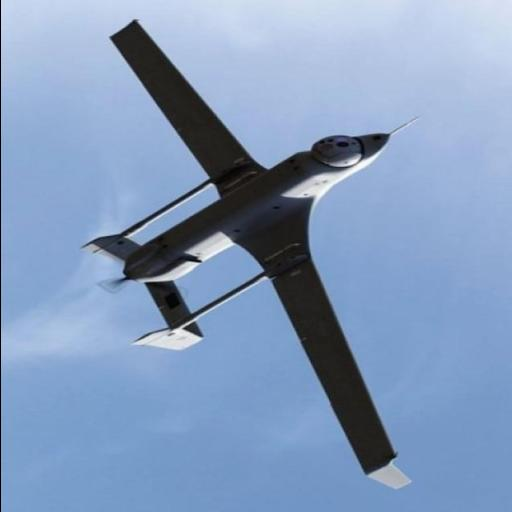uav: (53, 12, 417, 492)
